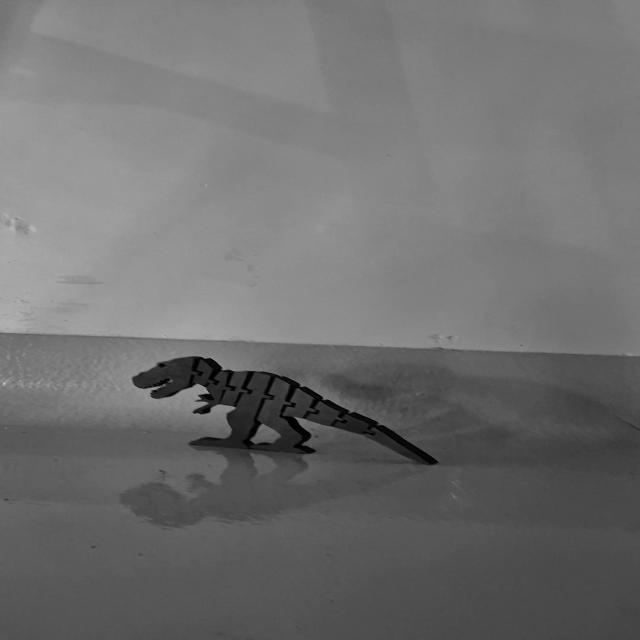dino: (130, 355, 439, 466)
